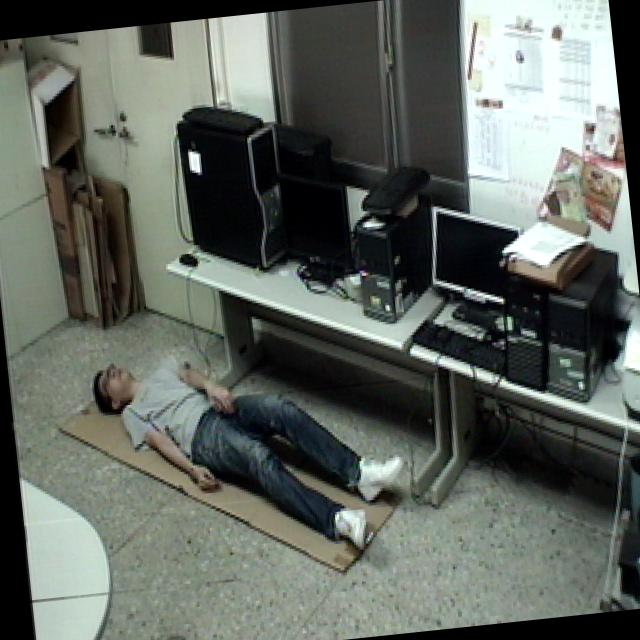lie: (75, 322, 416, 588)
